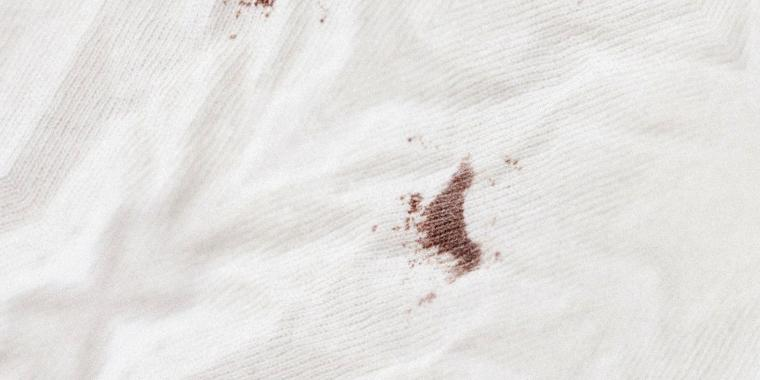stain: (416, 152, 488, 281)
